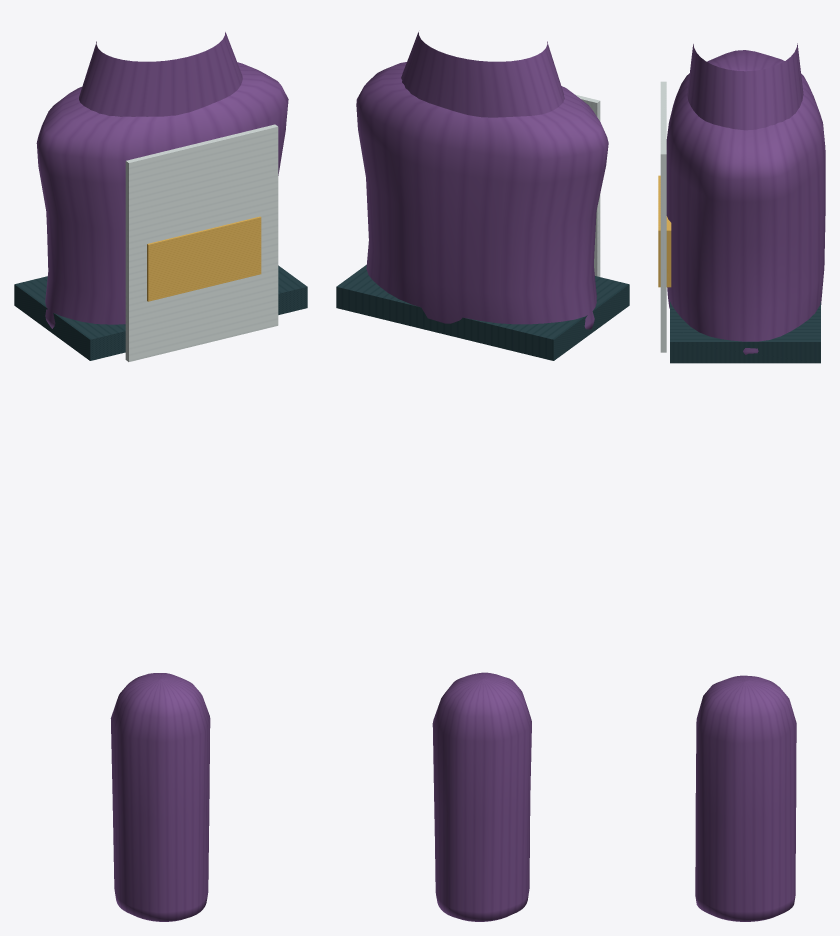
File: reference_layered_hoodie.gltf
The picture shows the model from 3 angles, left to right: view 1: azimuth 30°, elevation 25°; view 2: azimuth 150°, elevation 25°; view 3: azimuth 270°, elevation 25°; orthographic projection.
Parts seen in each view (by area): view 1: Torso, SleeveL; view 2: Torso, SleeveL; view 3: Torso, SleeveL.
Boxes of the visible parts, x1,y1,x2,y2 form: Torso: [14, 32, 307, 361]; SleeveL: [110, 673, 210, 921]; Torso: [336, 32, 629, 360]; SleeveL: [432, 672, 531, 921]; Torso: [658, 43, 825, 363]; SleeveL: [695, 675, 796, 921].
Size of the model in its own units: 0.5276 by 1.83 by 0.3218.
4 materials, 4 textured.
